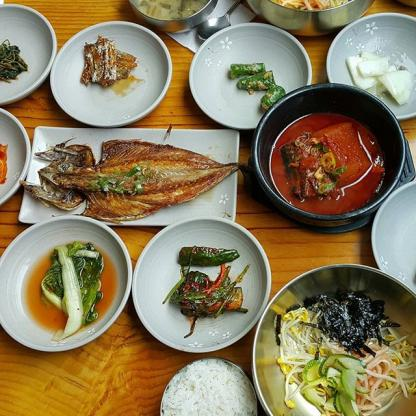Peixe: (22, 129, 246, 226)
